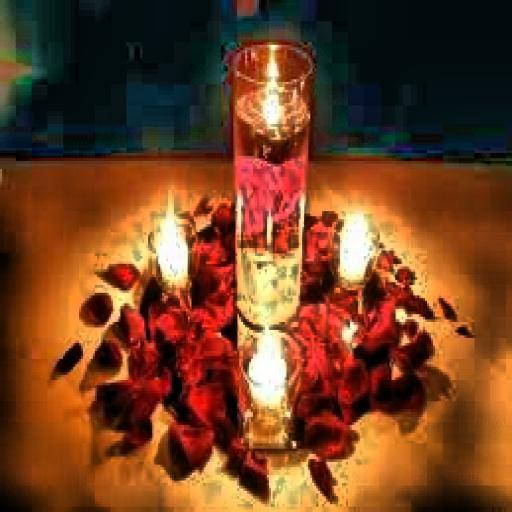fire: (148, 200, 194, 288), (330, 203, 374, 269), (245, 322, 291, 380), (249, 60, 285, 118)
